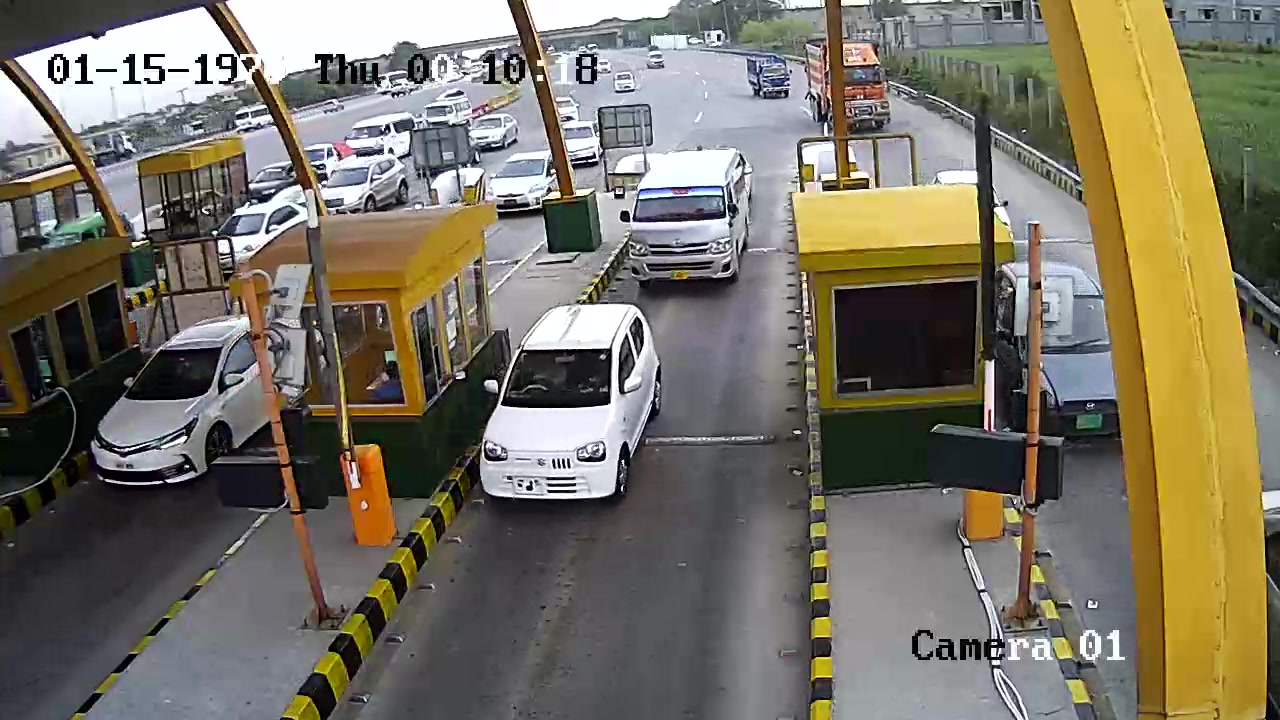F1: (477, 283, 667, 518)
F2: (605, 140, 761, 304)
